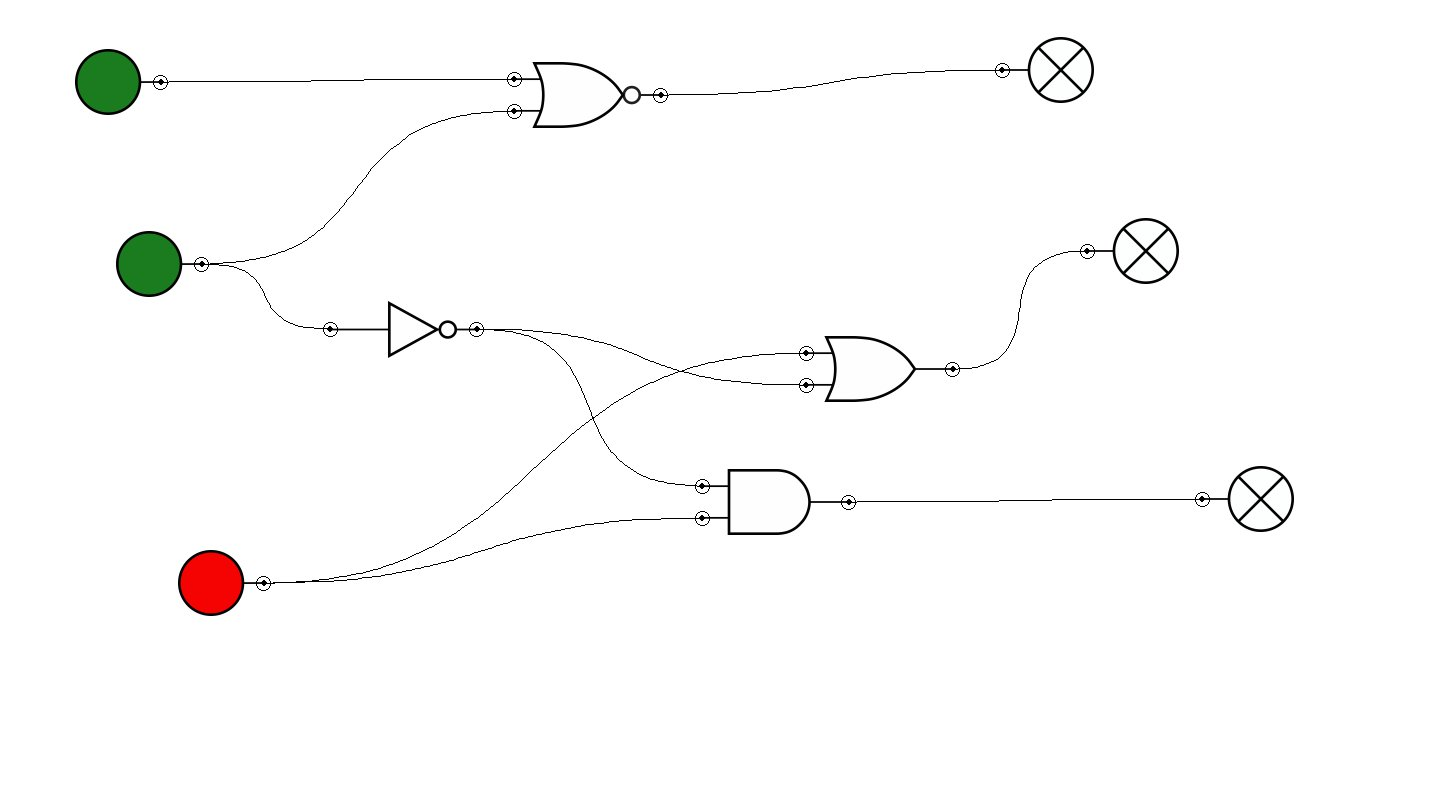and: (695, 469, 856, 535)
bulb: (1195, 466, 1294, 532), (1080, 218, 1179, 284), (995, 37, 1094, 103)
nor: (507, 62, 668, 128)
not: (323, 301, 484, 358)
or: (799, 336, 960, 402)
switch_False: (178, 550, 271, 616)
switch_True: (116, 231, 209, 297), (75, 49, 168, 115)
